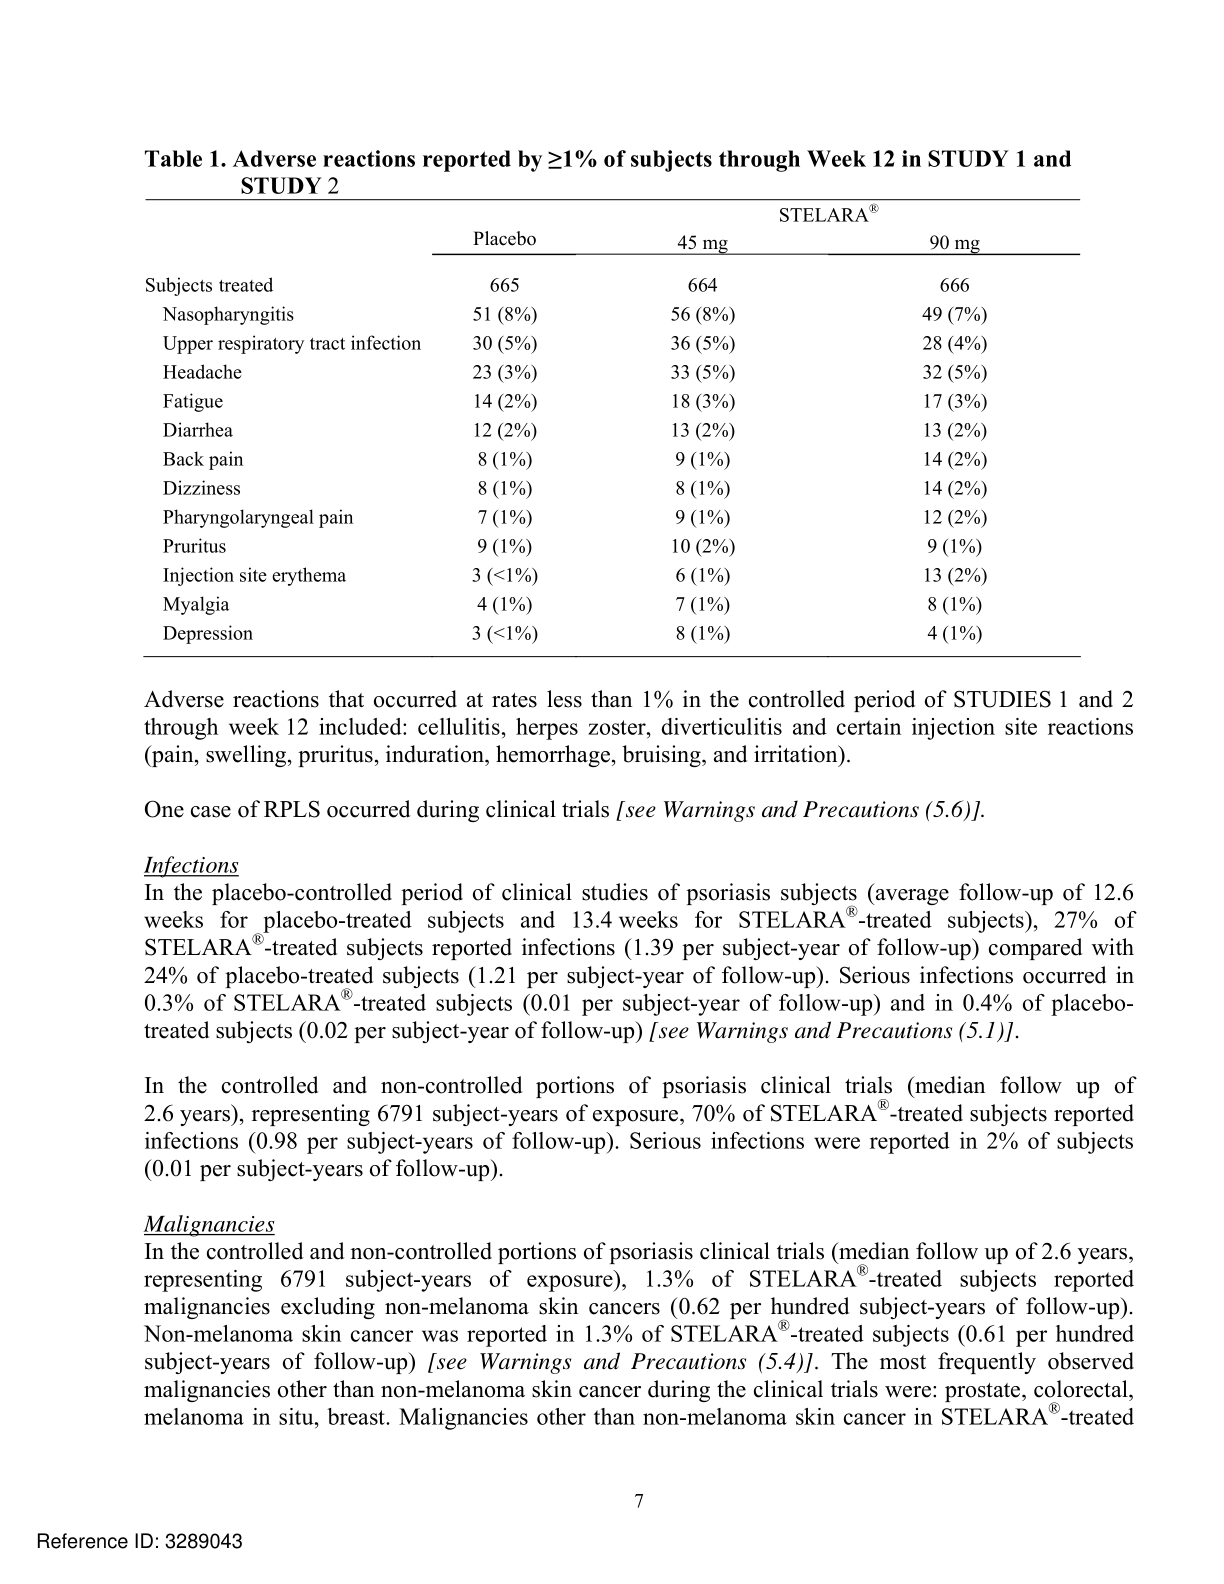partial_lined_merged_cells: (139, 195, 1092, 663)
